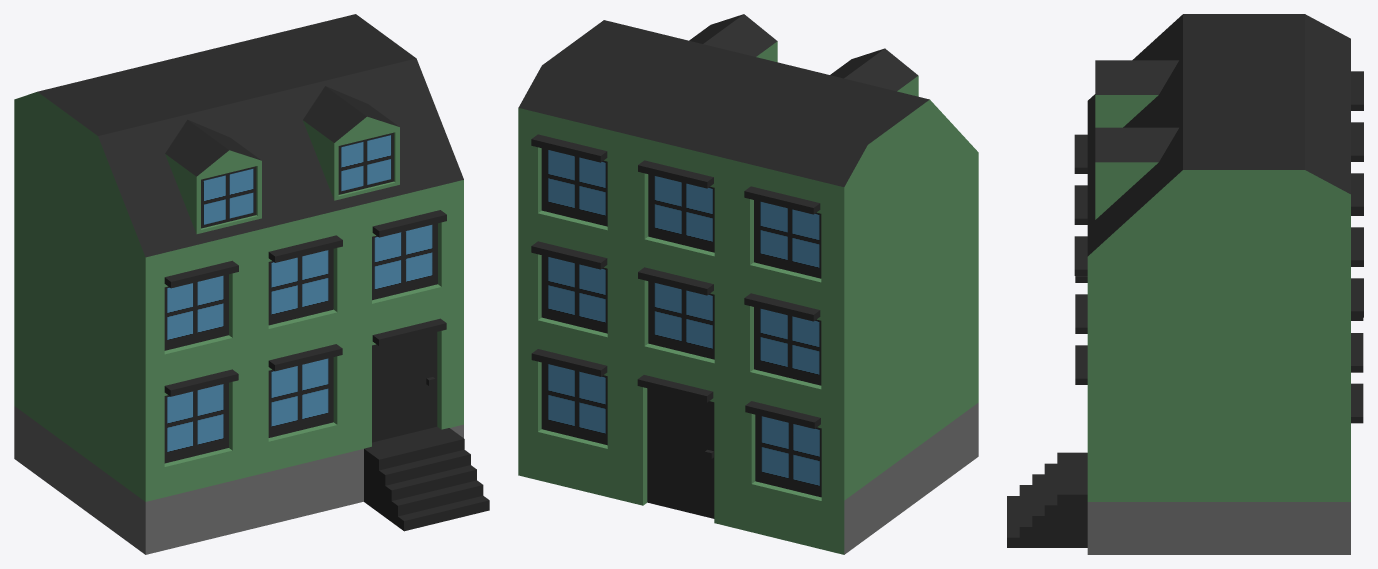
File: NormalSquereGreen.obj
3 views of the same model, side by side, from view 1: azimuth 30°, elevation 25°; view 2: azimuth 150°, elevation 25°; view 3: azimuth 270°, elevation 25° (orthographic). The views are drawn at different scales.
Visible parts, largest first — view 1: ZwyklayKwadratowyZielony.001; view 2: ZwyklayKwadratowyZielony.001; view 3: ZwyklayKwadratowyZielony.001.
Part boxes in pixels (<box>): ZwyklayKwadratowyZielony.001: <box>14,14,489,554</box>; ZwyklayKwadratowyZielony.001: <box>518,14,978,554</box>; ZwyklayKwadratowyZielony.001: <box>1007,14,1363,554</box>.
Bounding box in the file's own units: 7 × 8.07 × 6.78.
